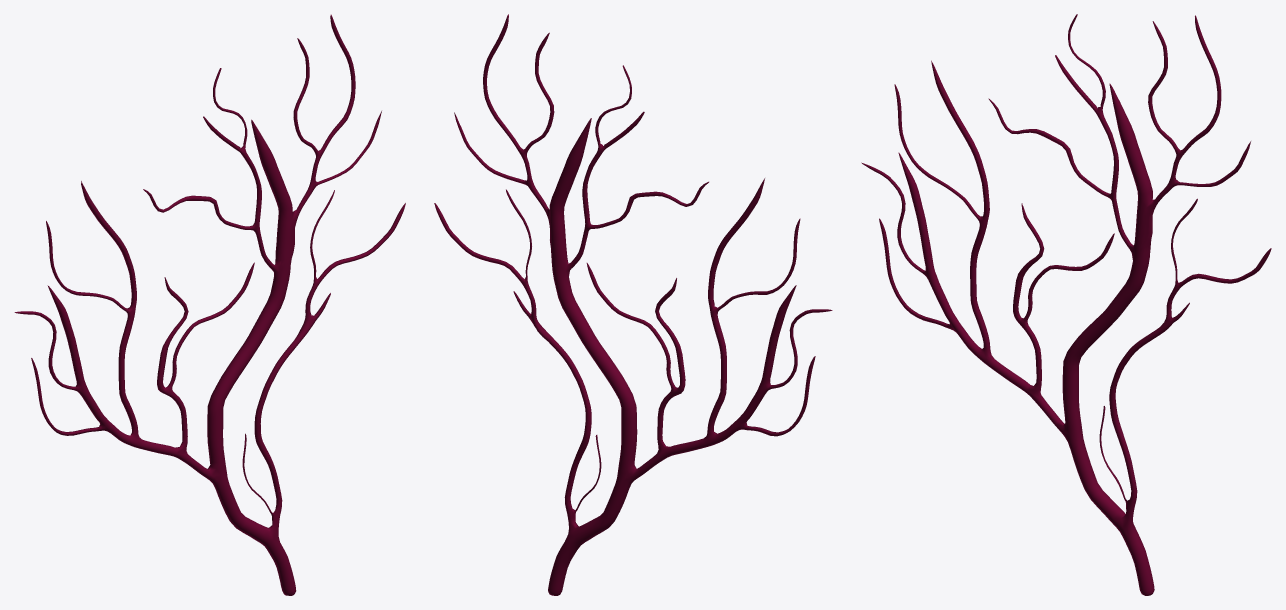
The picture shows the model from 3 angles, left to right: view 1: azimuth 30°, elevation 25°; view 2: azimuth 150°, elevation 25°; view 3: azimuth 330°, elevation 25°; orthographic projection. The views are drawn at different scales.
Visible parts, largest first — view 1: coral_root_5_retop; view 2: coral_root_5_retop; view 3: coral_root_5_retop.
Part boxes in pixels (x1,y1,x2,y2): coral_root_5_retop: (14, 14, 405, 595); coral_root_5_retop: (434, 14, 832, 595); coral_root_5_retop: (861, 14, 1271, 595).
Size of the model in its own units: 68.63 by 94.65 by 2.53.
